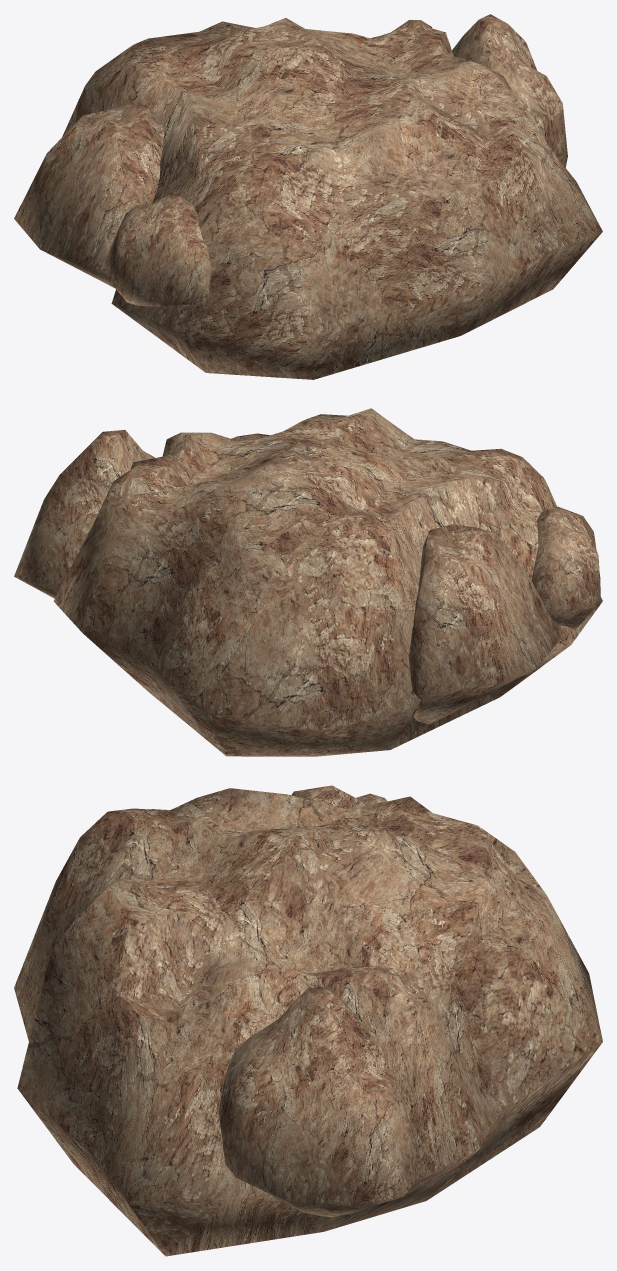
The model's file is rock_tatt_boulder_flat2_l0.fbx.
3 views of the same model, one above another, from view 1: azimuth 30°, elevation 25°; view 2: azimuth 150°, elevation 25°; view 3: azimuth 270°, elevation 25° (orthographic). The views are drawn at different scales.
Visible parts, largest first — view 1: mesh_node; view 2: mesh_node; view 3: mesh_node.
Part boxes in pixels (bbox=[...]): mesh_node: bbox=[14, 14, 602, 379]; mesh_node: bbox=[14, 408, 602, 756]; mesh_node: bbox=[14, 785, 602, 1256].
Size of the model in its own units: 6.61 by 3.98 by 5.43.
